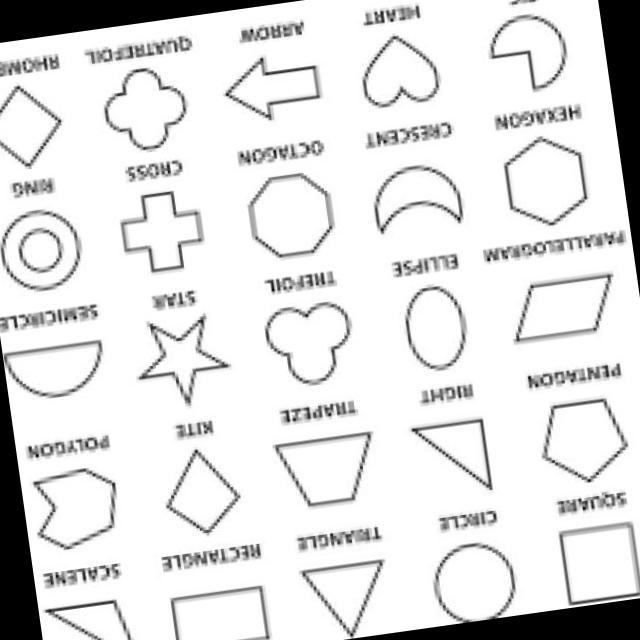circle: (388, 266, 481, 394), (420, 513, 518, 623)
cross: (103, 165, 214, 288)
square: (160, 565, 293, 640), (545, 505, 640, 607)
triangle: (295, 535, 403, 640)
